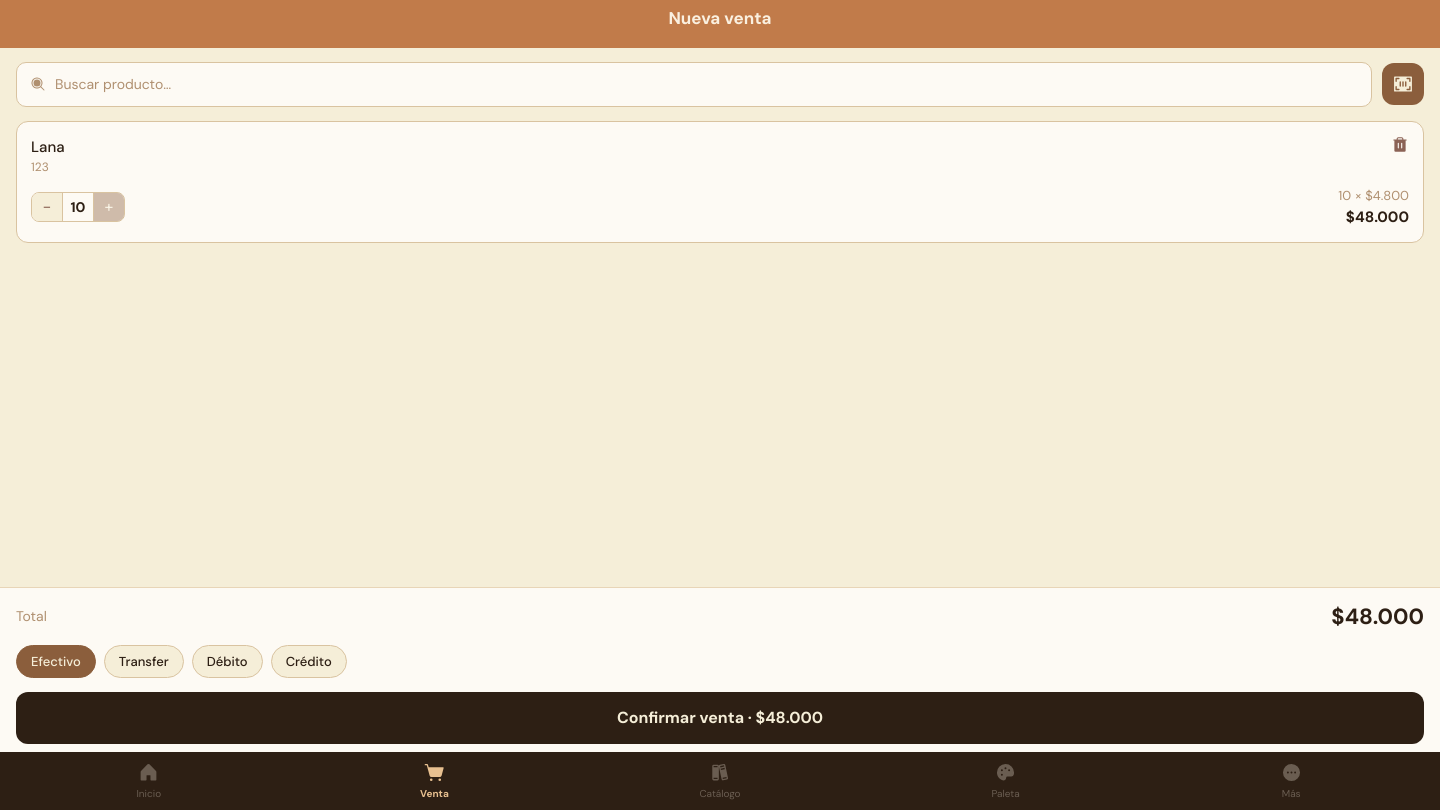
it: SaleScreen › confirm flow › should_flag_line_and_keep_draft_on_stock_insuficiente
Click the button "Confirmar venta · $48.000".
click(720, 718)  # box top-left (16, 692), bottom-right (1424, 744)
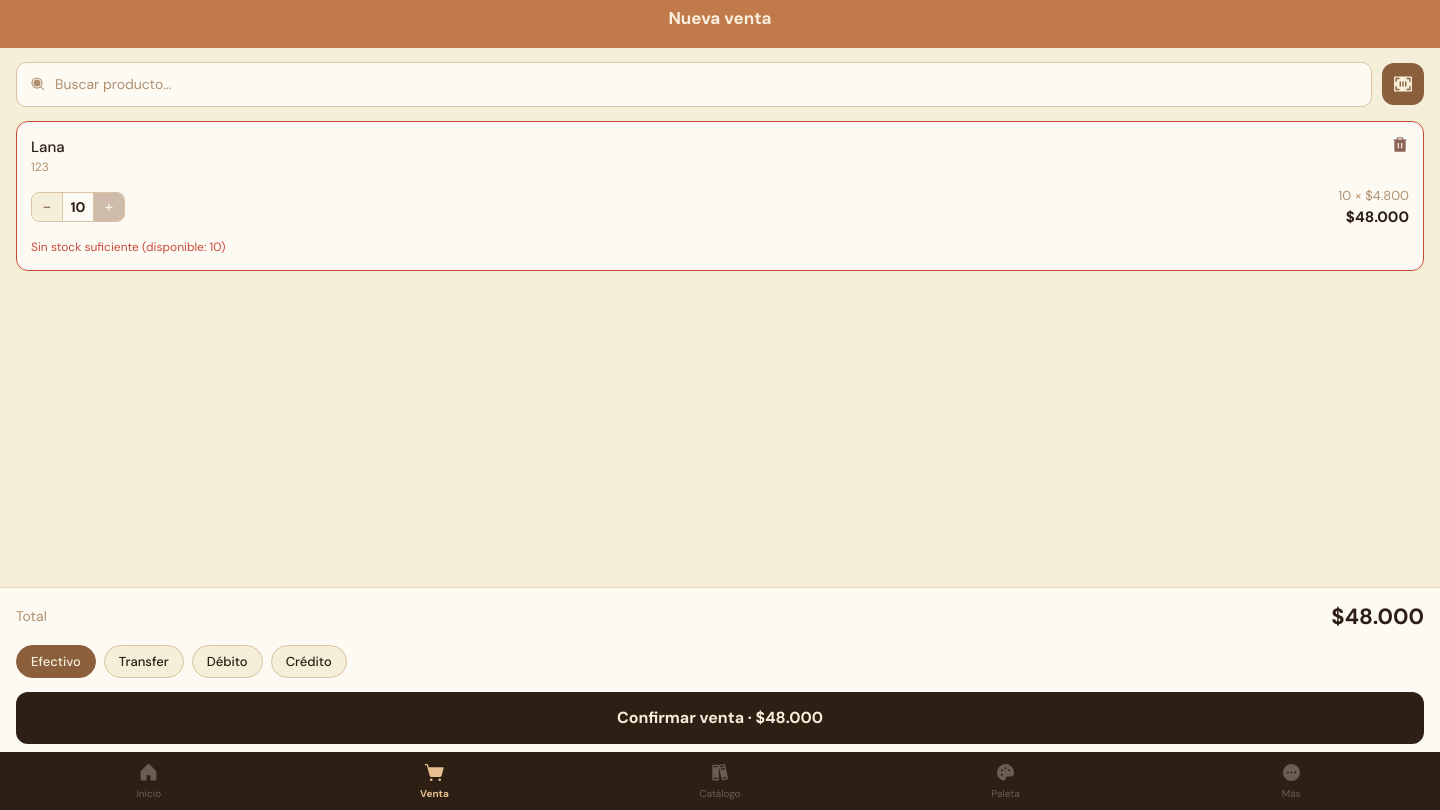
Now the text "Sin stock suficiente (disponible: 10)" is shown, box top-left (31, 239), bottom-right (226, 255)
